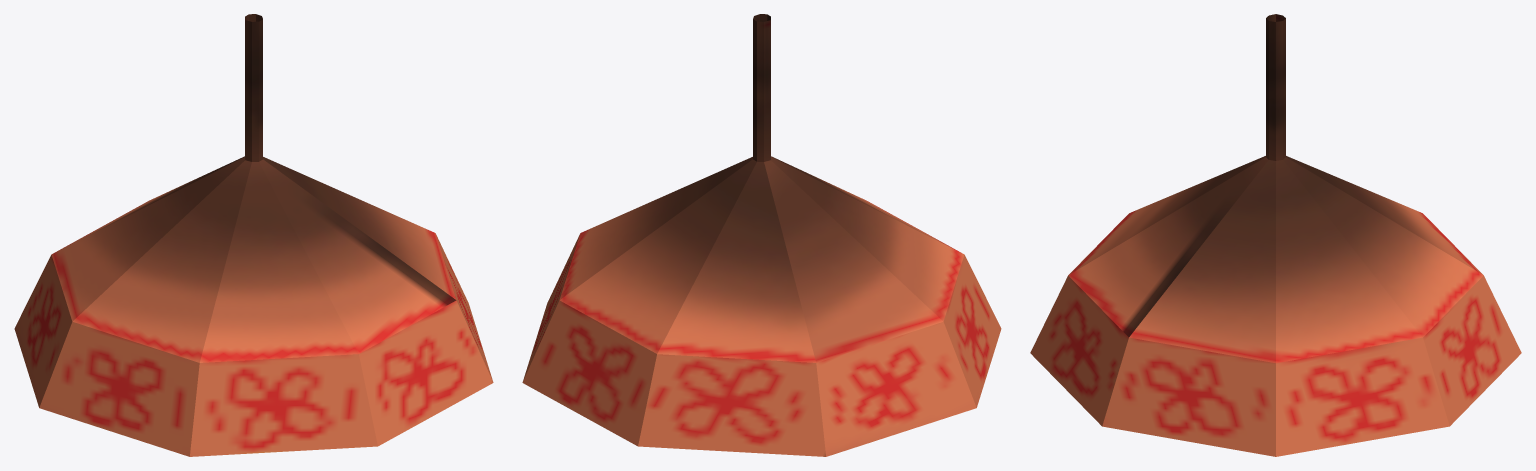
Rendered from CellingLamp.fbx.
The picture shows the model from 3 angles, left to right: view 1: azimuth 30°, elevation 25°; view 2: azimuth 150°, elevation 25°; view 3: azimuth 270°, elevation 25°; orthographic projection.
Parts seen in each view (by area): view 1: Cone; view 2: Cone; view 3: Cone.
Part boxes in pixels (box(x1,y1,x2,y2)): Cone: box(14, 14, 493, 456); Cone: box(522, 14, 1001, 456); Cone: box(1030, 14, 1521, 456).
Bounding box in the file's own units: 108 × 81.51 × 108.
